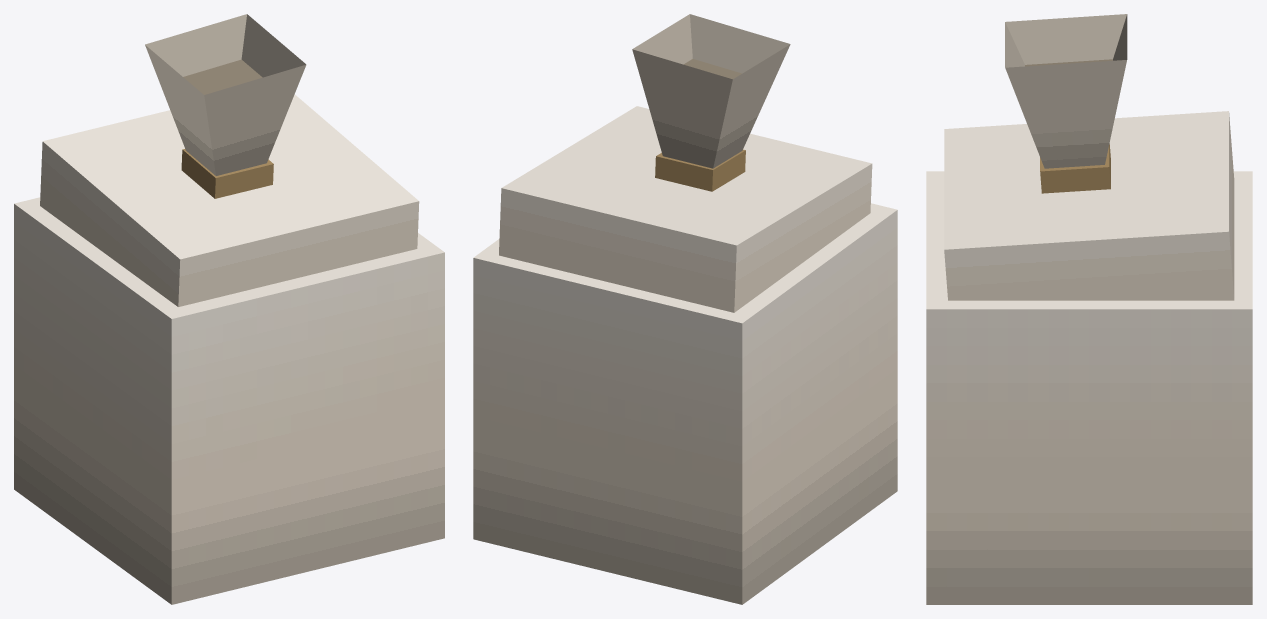
File: Mail Bag.gltf
The picture shows the model from 3 angles, left to right: view 1: azimuth 30°, elevation 25°; view 2: azimuth 150°, elevation 25°; view 3: azimuth 270°, elevation 25°; orthographic projection. The views are drawn at different scales.
Visible parts, largest first — view 1: cube (×3), mesh; view 2: cube (×3), mesh; view 3: cube (×3), mesh.
Part boxes in pixels (x1,y1,x2,y2): cube (×3): [14, 94, 444, 604]; mesh: [145, 14, 306, 175]; cube (×3): [473, 106, 897, 604]; mesh: [632, 14, 790, 168]; cube (×3): [926, 111, 1252, 604]; mesh: [1005, 14, 1127, 168].
Bounding box in the file's own units: 0.25 × 0.4178 × 0.25.
Materials: 1 (1 with a texture image).
